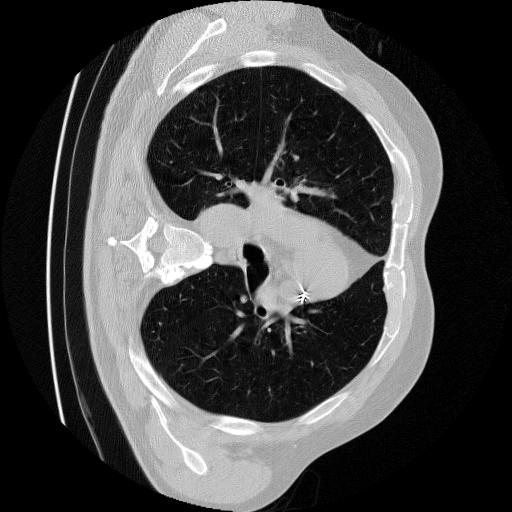nodule: (237, 294, 251, 308)
